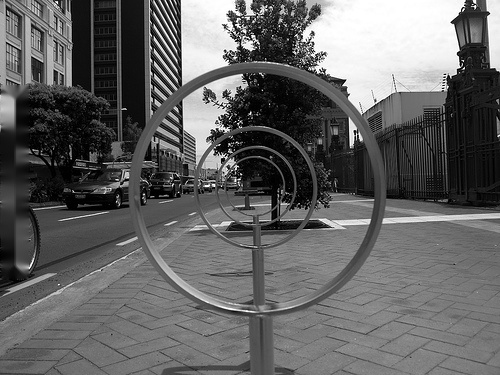bicycle: (1, 199, 40, 293)
car: (64, 164, 151, 210), (147, 167, 186, 200)
